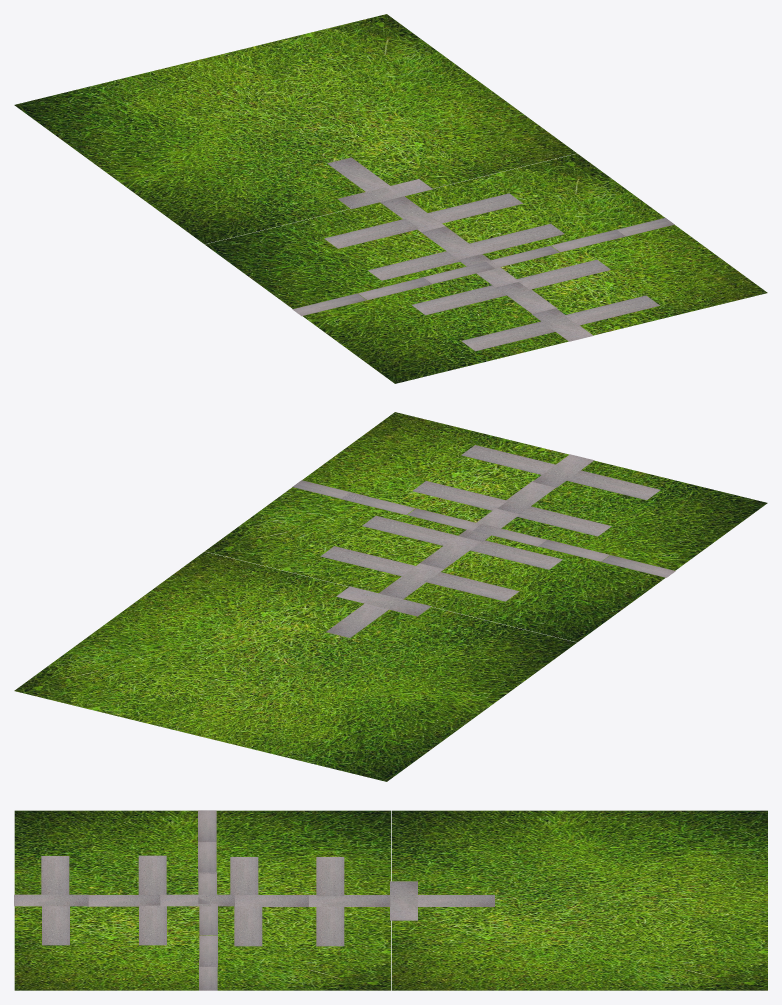
Rendered from piscocalle.obj.
3 renders of one model, top to bottom at view 1: azimuth 30°, elevation 25°; view 2: azimuth 150°, elevation 25°; view 3: azimuth 270°, elevation 25°, orthographic.
Visible parts, largest first — view 1: Plane_Plane.001, Plane_Plane.002, Plane.018_Plane.019, Plane.014_Plane.015, Plane.015_Plane.016, Plane.017_Plane.018, Plane.016_Plane.017, Plane.012_Plane.013, Plane.007_Plane.012, Plane.011, Plane.013_Plane.014, Plane.013 (+10 smaller); view 2: Plane_Plane.001, Plane_Plane.002, Plane.015_Plane.016, Plane.016_Plane.017, Plane.011, Plane.012_Plane.013, Plane.017_Plane.018, Plane.018_Plane.019, Plane.014_Plane.015, Plane.007_Plane.012, Plane.013_Plane.014, Plane.007 (+11 smaller); view 3: Plane_Plane.001, Plane_Plane.002, Plane.016_Plane.017, Plane.015_Plane.016, Plane.012_Plane.013, Plane.014_Plane.015, Plane.017_Plane.018, Plane.007_Plane.012, Plane.011, Plane.018_Plane.019, Plane.013_Plane.014, Plane.006 (+11 smaller).
Part boxes in pixels (x1=…): Plane_Plane.001: x1=14, y1=14, x2=576, y2=244; Plane_Plane.002: x1=205, y1=153, x2=767, y2=383; Plane.018_Plane.019: x1=565, y1=295, x2=659, y2=325; Plane.014_Plane.015: x1=324, y1=218, x2=419, y2=248; Plane.015_Plane.016: x1=428, y1=193, x2=522, y2=223; Plane.017_Plane.018: x1=515, y1=259, x2=610, y2=289; Plane.016_Plane.017: x1=469, y1=223, x2=564, y2=253; Plane.012_Plane.013: x1=412, y1=285, x2=506, y2=315; Plane.007_Plane.012: x1=461, y1=321, x2=555, y2=351; Plane.011: x1=338, y1=179, x2=432, y2=209; Plane.013_Plane.014: x1=368, y1=251, x2=459, y2=280; Plane.013: x1=327, y1=157, x2=398, y2=192; Plane_Plane.001: x1=14, y1=551, x2=576, y2=781; Plane_Plane.002: x1=205, y1=412, x2=767, y2=642; Plane.015_Plane.016: x1=320, y1=546, x2=415, y2=576; Plane.016_Plane.017: x1=362, y1=515, x2=457, y2=545; Plane.011: x1=336, y1=586, x2=431, y2=616; Plane.012_Plane.013: x1=517, y1=506, x2=611, y2=536; Plane.017_Plane.018: x1=412, y1=481, x2=507, y2=510; Plane.018_Plane.019: x1=461, y1=445, x2=555, y2=474; Plane.014_Plane.015: x1=424, y1=572, x2=519, y2=601; Plane.007_Plane.012: x1=567, y1=470, x2=660, y2=500; Plane.013_Plane.014: x1=470, y1=540, x2=562, y2=569; Plane.007: x1=379, y1=563, x2=443, y2=598; Plane_Plane.001: x1=391, y1=810, x2=767, y2=990; Plane_Plane.002: x1=14, y1=810, x2=390, y2=990; Plane.016_Plane.017: x1=234, y1=906, x2=262, y2=946; Plane.015_Plane.016: x1=316, y1=906, x2=344, y2=946; Plane.012_Plane.013: x1=138, y1=855, x2=166, y2=894; Plane.014_Plane.015: x1=316, y1=857, x2=344, y2=896; Plane.017_Plane.018: x1=139, y1=905, x2=166, y2=945; Plane.007_Plane.012: x1=41, y1=856, x2=69, y2=894; Plane.011: x1=390, y1=881, x2=417, y2=920; Plane.018_Plane.019: x1=42, y1=906, x2=69, y2=945; Plane.013_Plane.014: x1=230, y1=857, x2=258, y2=894; Plane.006: x1=14, y1=894, x2=88, y2=906.
Size of the model in its own units: 229 by 0.0254 by 404.
2 materials, 2 textured.
